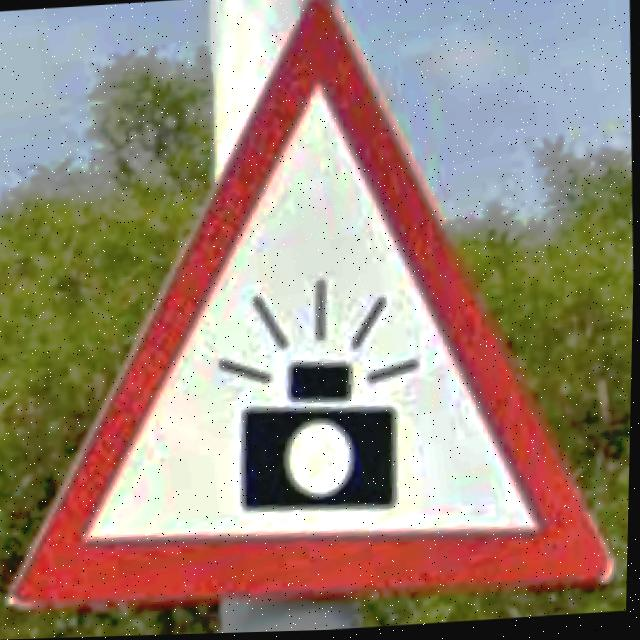speedcamera: (10, 0, 619, 611)
